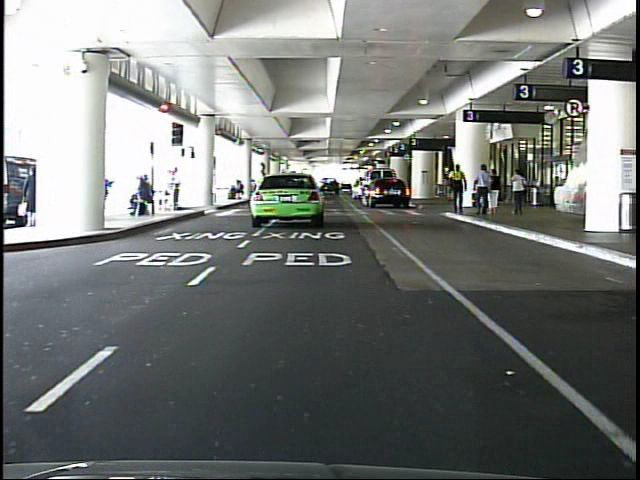person: (446, 161, 471, 220), (504, 166, 530, 219), (26, 168, 49, 226), (473, 161, 493, 220), (488, 165, 504, 220), (170, 167, 188, 215)
